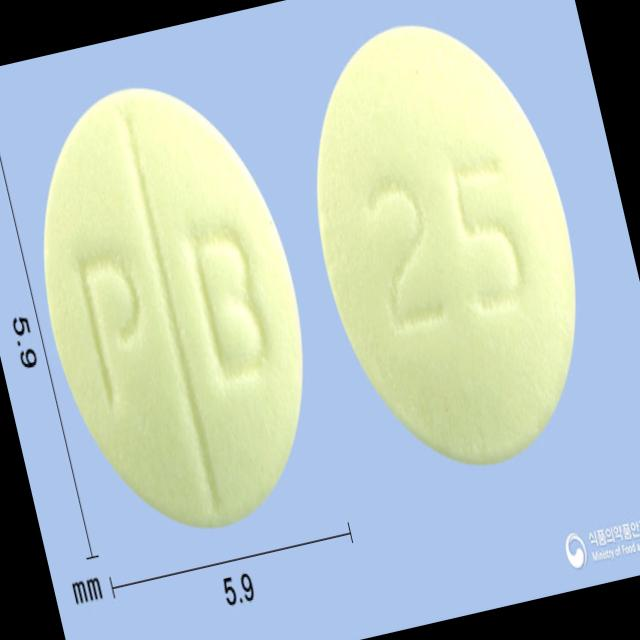Azabio - 50mg: (0, 54, 347, 557)
